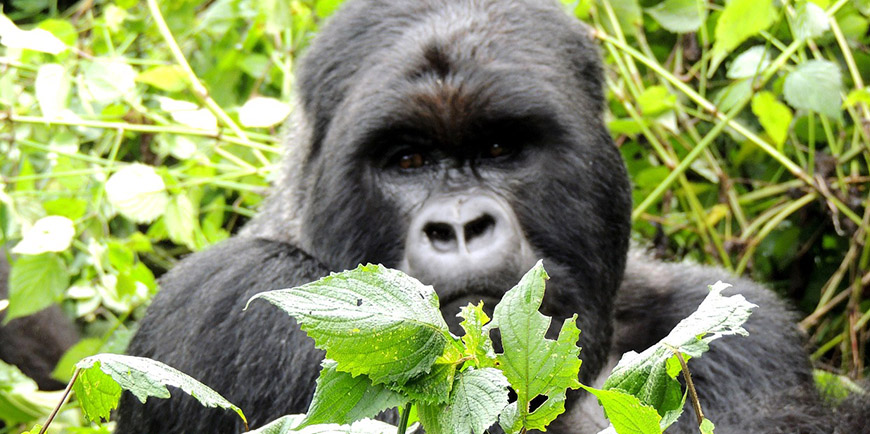Goriila: (166, 8, 781, 434)
